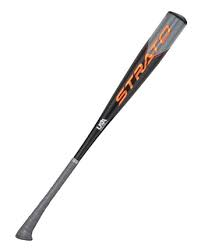baseball bat: (14, 11, 188, 241)
